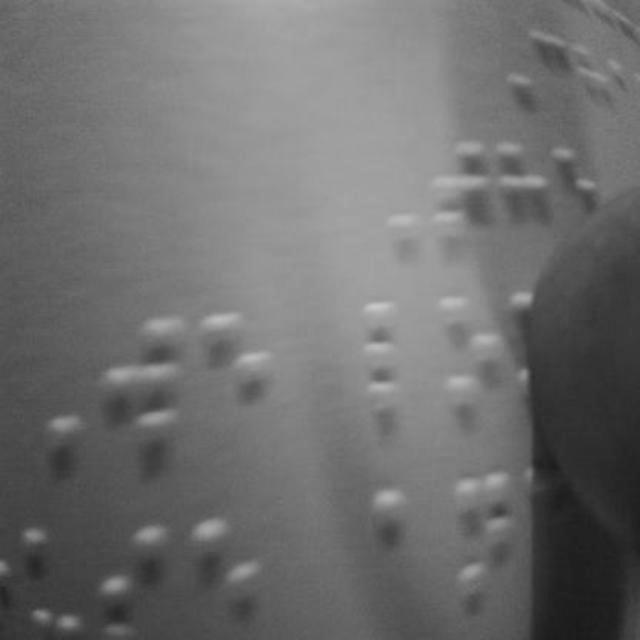braiile: (98, 314, 185, 456), (364, 472, 446, 616), (452, 467, 524, 611), (438, 291, 510, 429), (200, 303, 270, 441), (192, 512, 258, 640), (364, 296, 428, 420)
